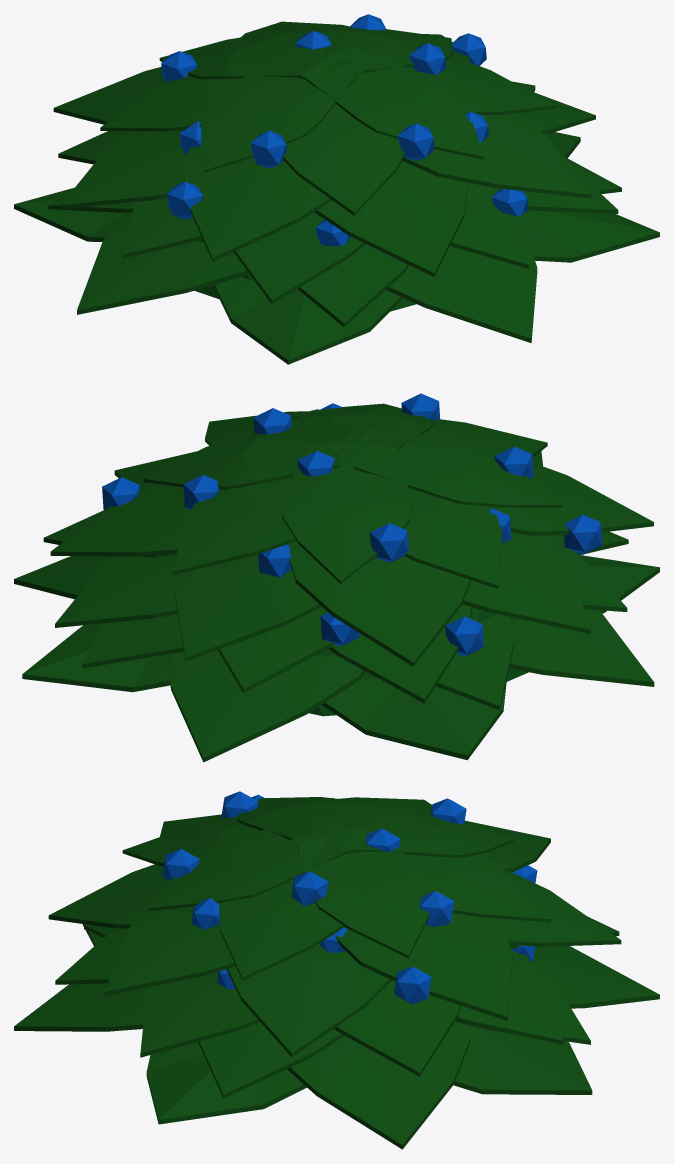
The model's file is BushLBlueFruits.obj.
The picture shows the model from 3 angles, top to bottom: view 1: azimuth 30°, elevation 25°; view 2: azimuth 150°, elevation 25°; view 3: azimuth 270°, elevation 25°; orthographic projection. The views are drawn at different scales.
Visible parts, largest first — view 1: BushLBlueFruits_Icosphere.137; view 2: BushLBlueFruits_Icosphere.137; view 3: BushLBlueFruits_Icosphere.137.
Part boxes in pixels (left/top/right/bottom): BushLBlueFruits_Icosphere.137: left=14, top=14, right=659, bottom=364; BushLBlueFruits_Icosphere.137: left=14, top=393, right=659, bottom=762; BushLBlueFruits_Icosphere.137: left=14, top=791, right=659, bottom=1149.
Bounding box in the file's own units: 10 × 3.2 × 10.07.
